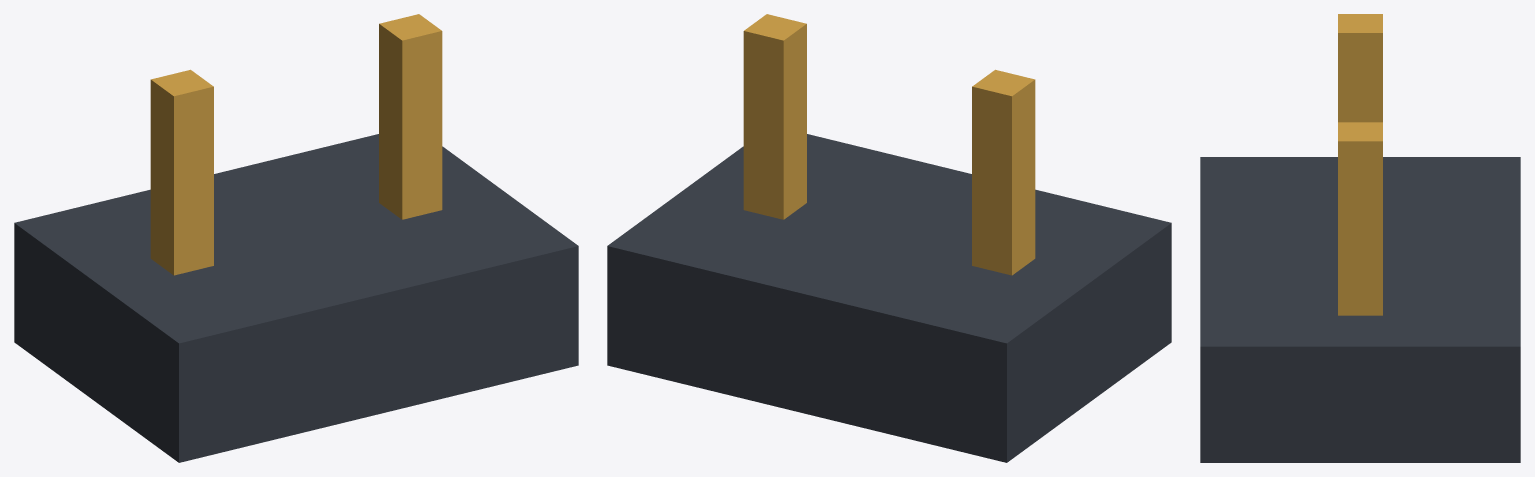
The model's file is 147_L110_W173_Socket.fbx.
The picture shows the model from 3 angles, left to right: view 1: azimuth 30°, elevation 25°; view 2: azimuth 150°, elevation 25°; view 3: azimuth 270°, elevation 25°; orthographic projection. The views are drawn at different scales.
Visible parts, largest first — view 1: L110_W173_Socket_POLYMER, L110_W173_Socket_GOLD; view 2: L110_W173_Socket_POLYMER, L110_W173_Socket_GOLD; view 3: L110_W173_Socket_POLYMER, L110_W173_Socket_GOLD.
Part boxes in pixels (x1,y1,x2,y2): L110_W173_Socket_POLYMER: (14,134,578,462); L110_W173_Socket_GOLD: (150,14,442,275); L110_W173_Socket_POLYMER: (607,134,1171,462); L110_W173_Socket_GOLD: (743,14,1035,275); L110_W173_Socket_POLYMER: (1200,157,1520,462); L110_W173_Socket_GOLD: (1338,14,1382,315).
Bounding box in the file's own units: 7 × 5 × 5.
